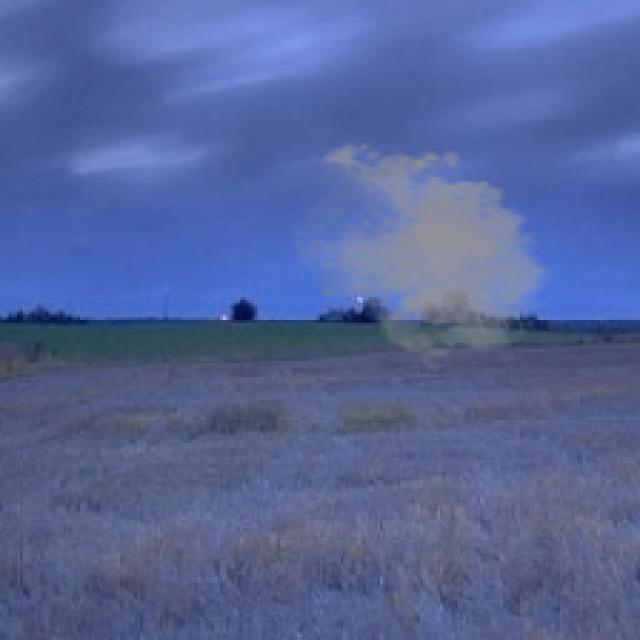Smoke: (286, 137, 558, 374)
